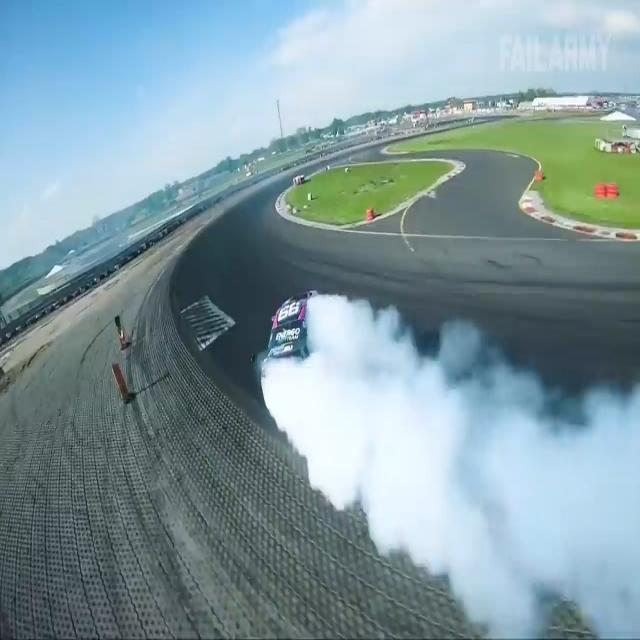Vehicle: (247, 289, 321, 369)
